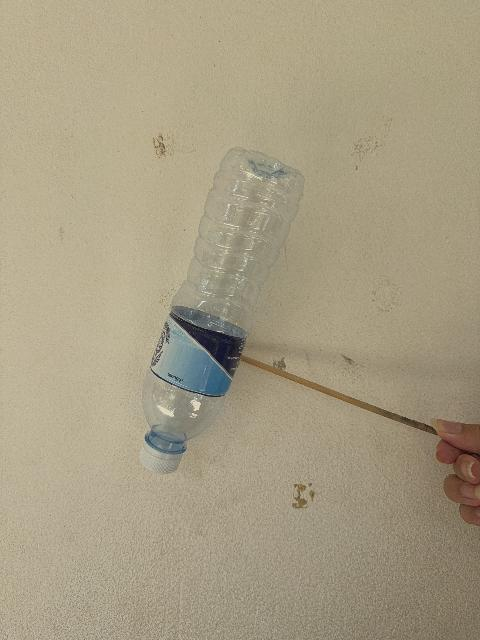bottle: (140, 148, 303, 473)
